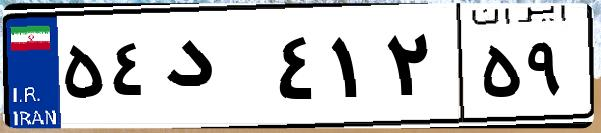1: (330, 28, 385, 110)
2: (385, 28, 445, 110)
4: (270, 28, 330, 110), (110, 28, 158, 98)
5: (57, 26, 110, 100), (475, 38, 525, 113)
9: (525, 38, 570, 115)
د: (158, 20, 270, 120)
